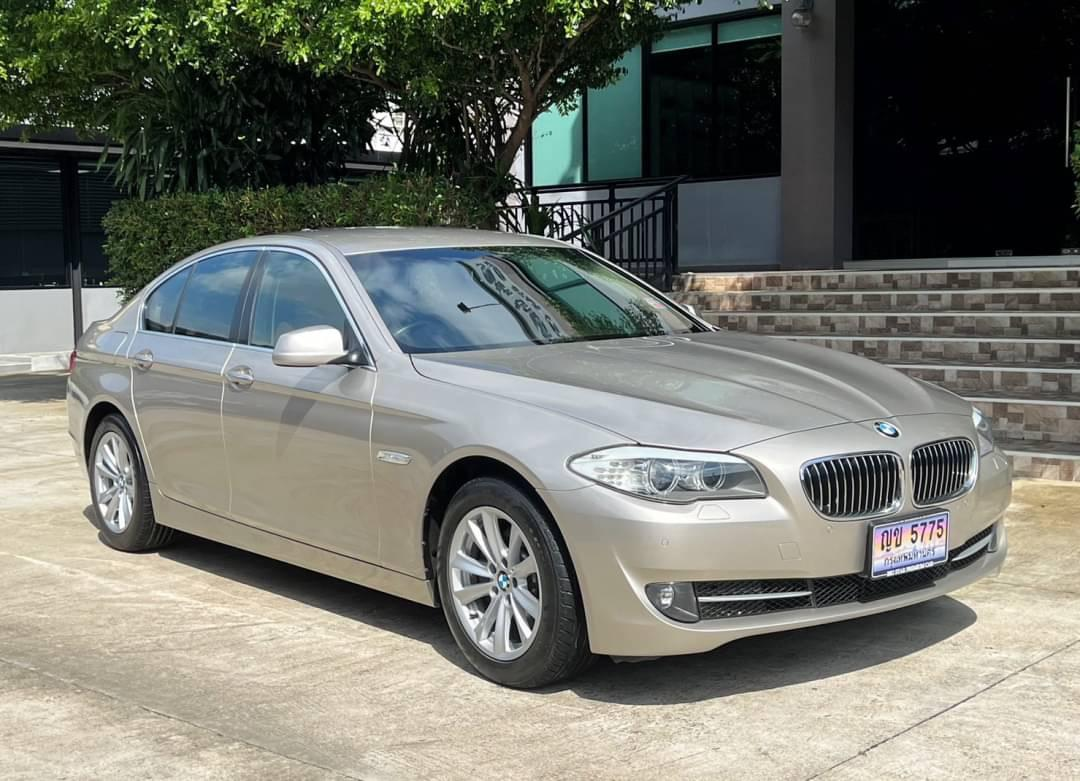license-plate: (862, 506, 953, 579)
